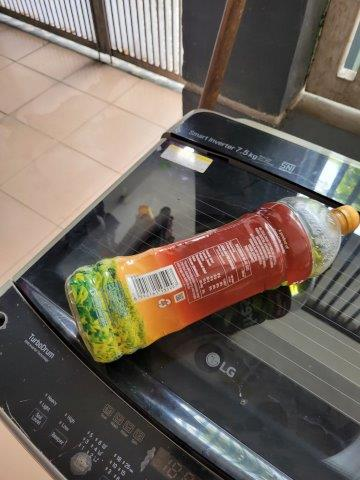botolplastik: (64, 193, 360, 365)
